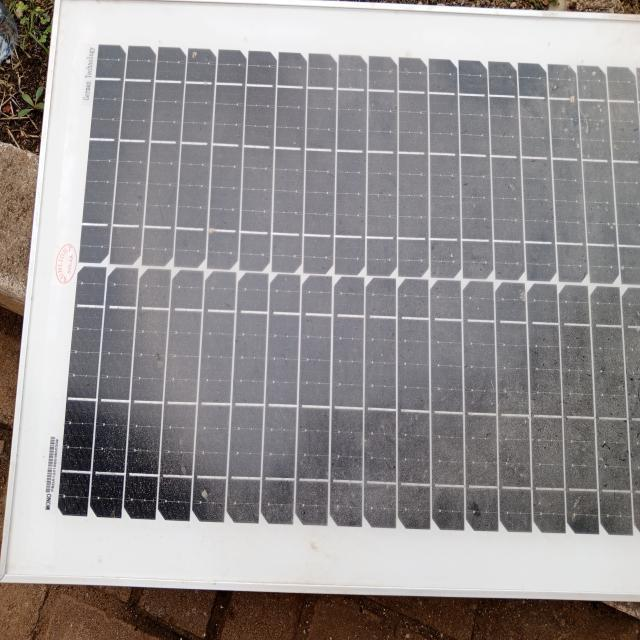Surface Contaminant: (75, 20, 639, 558)
